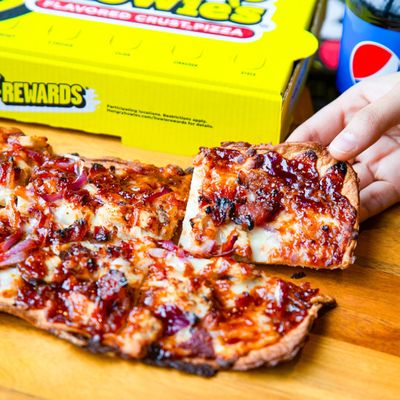pizza: (334, 0, 400, 94)
